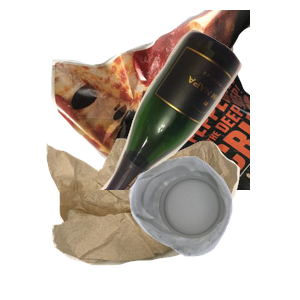glass: (87, 27, 300, 207)
paper: (49, 10, 289, 190)
plastic: (127, 154, 300, 300)
trash: (44, 136, 277, 300)
